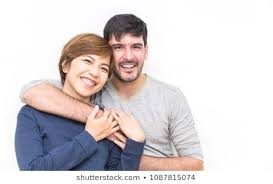white_male: (102, 31, 143, 71)
